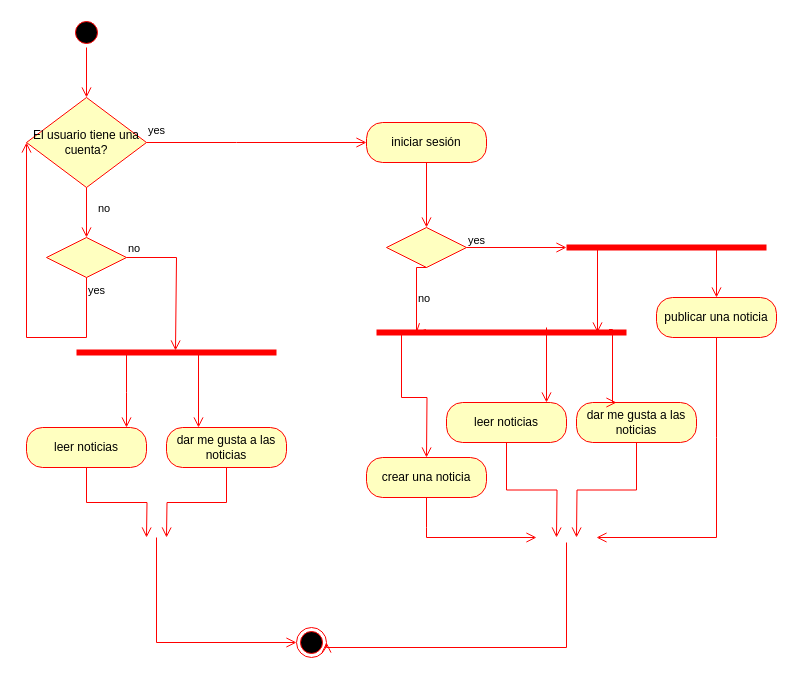
Some shapes in this 794 by 675 pixel diagram are drawn without their labels. Each missing label, with the box of its shape:
Es moderador?: (386, 226, 466, 268)
va a registrarse?: (46, 236, 126, 278)
